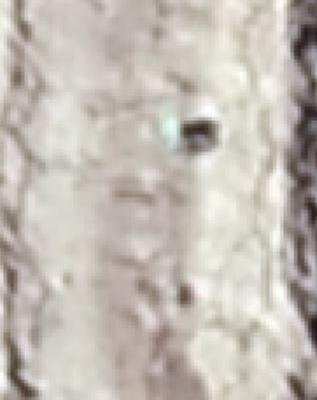cotton: (158, 115, 178, 142)
